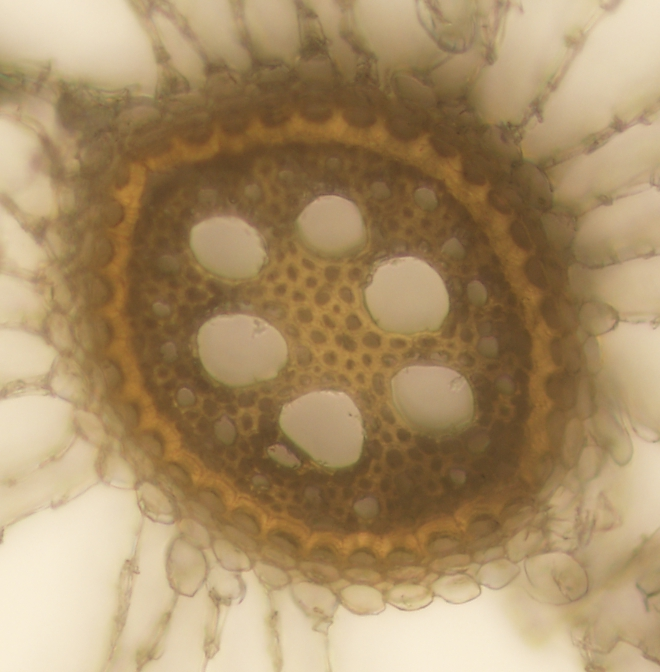lm: (268, 390, 364, 471), (365, 255, 450, 337), (196, 314, 287, 385), (391, 366, 475, 437), (189, 214, 266, 281), (293, 193, 369, 259)
